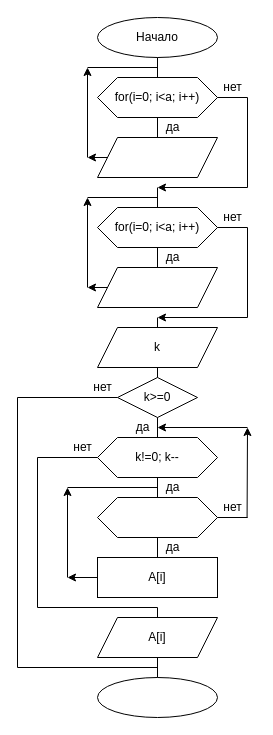
The diagram is 273 pixels wide and 735 high, and some of its shapes have lost their labels. Here are the shapes that lost their labels. From the top down, the centre of each, then its label:
pixel 157 157: ввод A[i]
pixel 157 287: вывод A[i]
pixel 157 517: for(i=0; i<N-1; i++)
pixel 157 697: Конец
